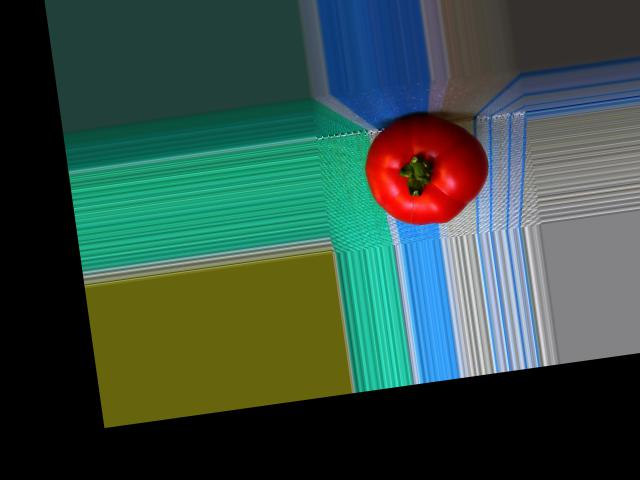tomato: (358, 105, 494, 232)
